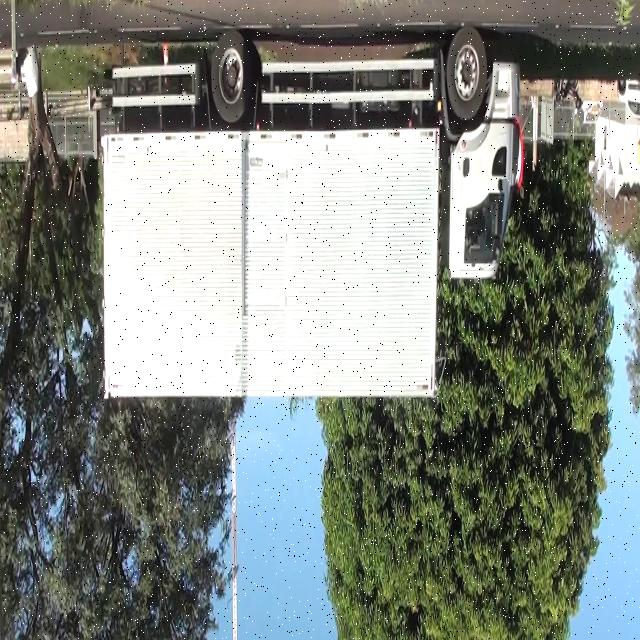-axle: (447, 28, 487, 126), (212, 32, 252, 125)
